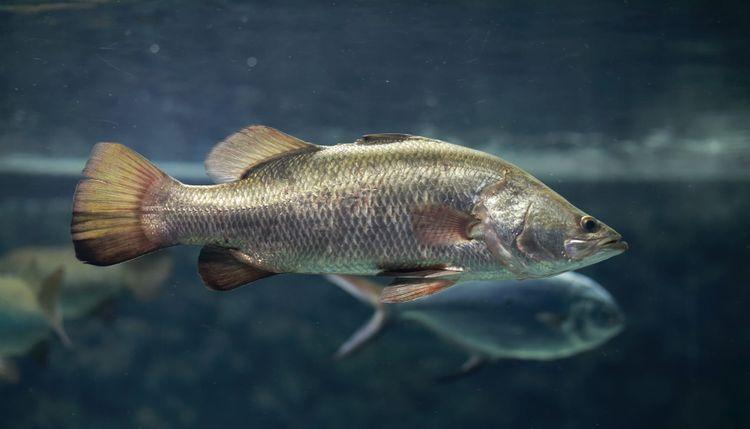Silver Perch: (66, 122, 629, 300)
